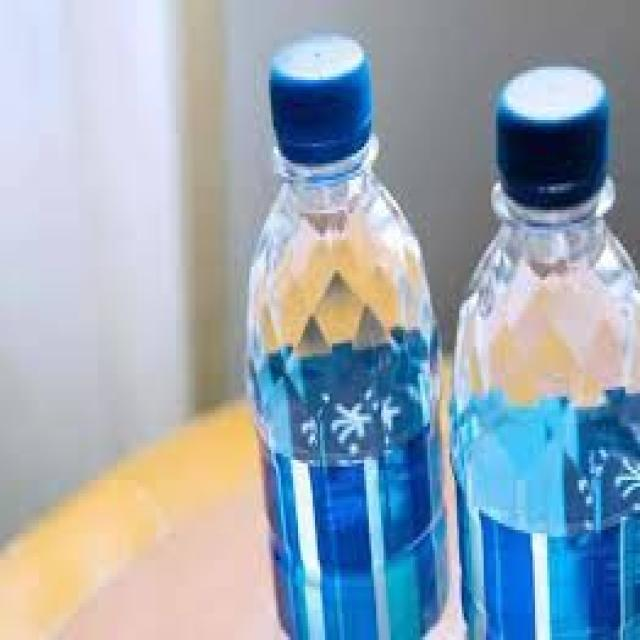bottle: (227, 9, 489, 640)
